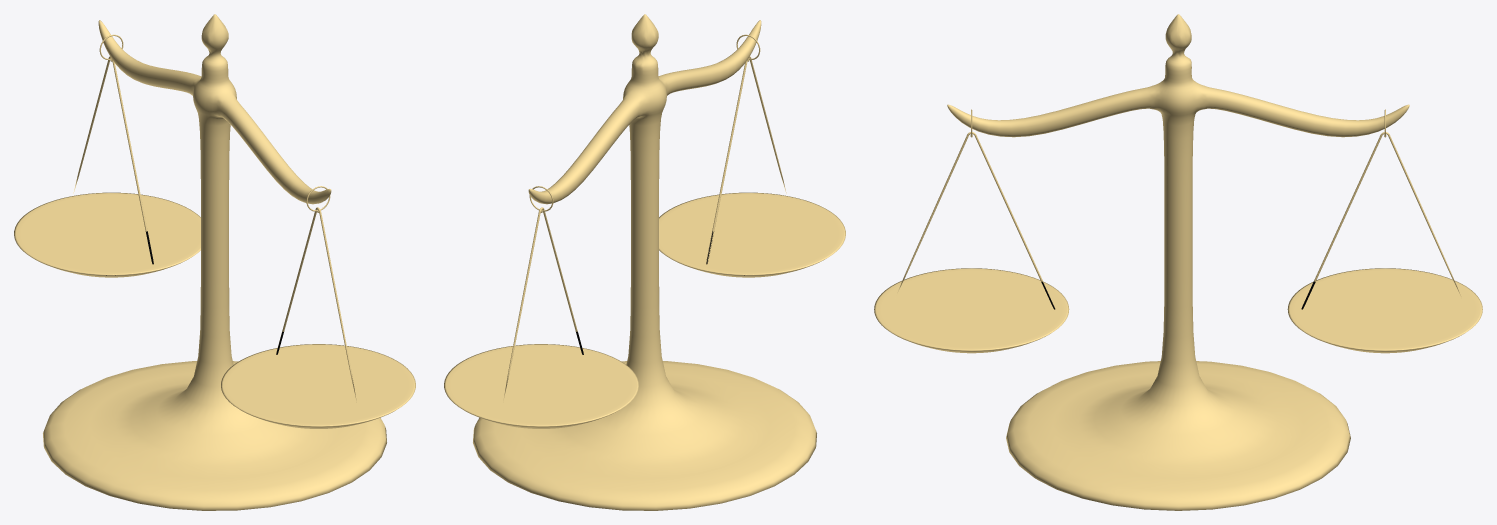
The model's file is balancasolucoes.glb.
The picture shows the model from 3 angles, left to right: view 1: azimuth 30°, elevation 25°; view 2: azimuth 150°, elevation 25°; view 3: azimuth 270°, elevation 25°; orthographic projection.
Parts seen in each view (by area): view 1: balancasolucoes; view 2: balancasolucoes; view 3: balancasolucoes.
Part boxes in pixels (x1,y1,x2,y2): balancasolucoes: (14,14,415,510); balancasolucoes: (444,14,845,510); balancasolucoes: (874,14,1482,510).
Bounding box in the file's own units: 0.4531 × 0.6215 × 0.7995.
Materials: 1 (1 with a texture image).
